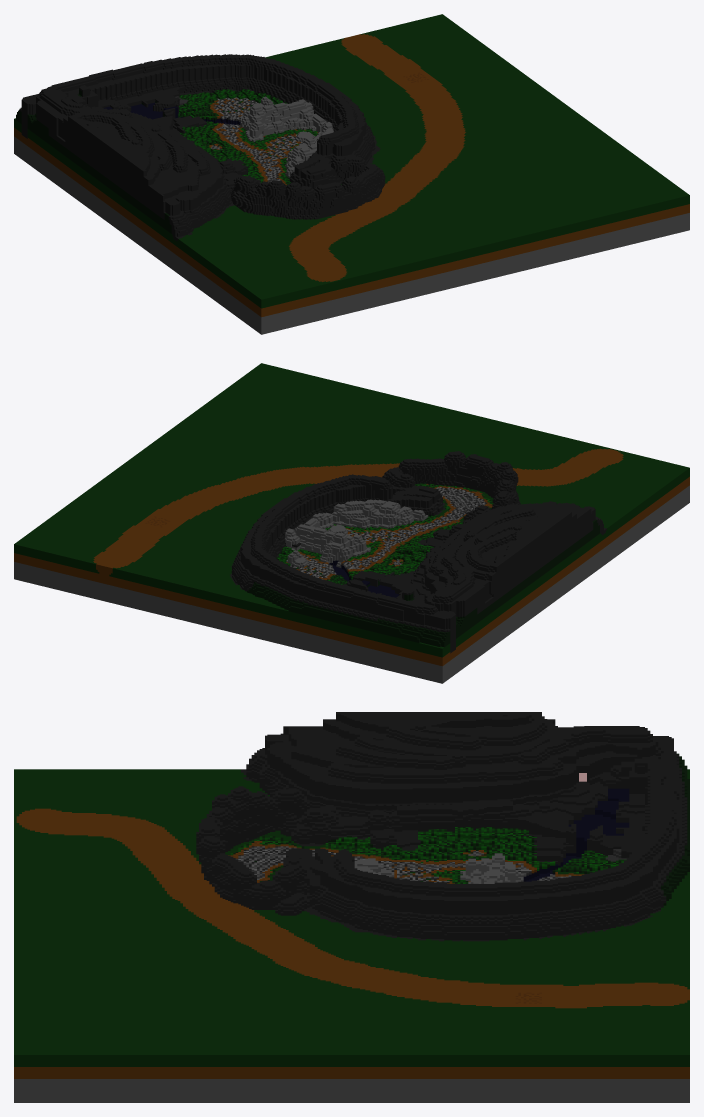
File: ShrineArea 1.obj
3 views of the same model, one above another, from view 1: azimuth 30°, elevation 25°; view 2: azimuth 150°, elevation 25°; view 3: azimuth 270°, elevation 25° (orthographic). The views are drawn at different scales.
Bounding box in the file's own units: 25.6 × 4.5 × 25.6.
1 material, 1 textured.
